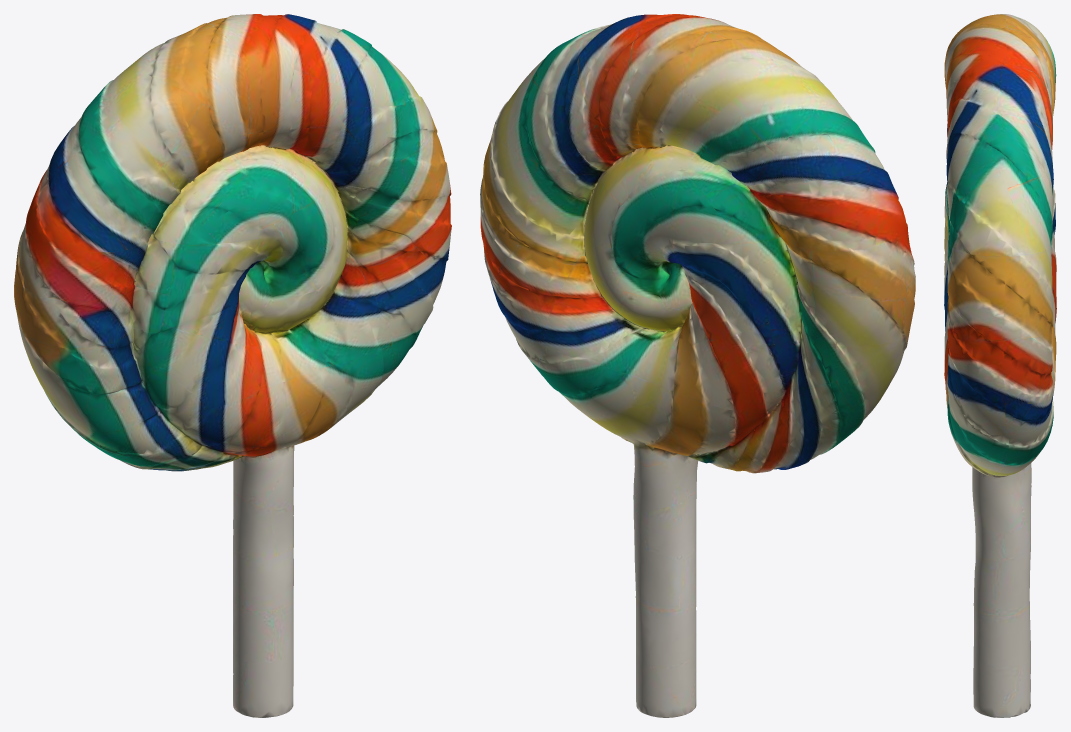
The picture shows the model from 3 angles, left to right: view 1: azimuth 30°, elevation 25°; view 2: azimuth 150°, elevation 25°; view 3: azimuth 270°, elevation 25°; orthographic projection. The views are drawn at different scales.
Visible parts, largest first — view 1: mesh_node; view 2: mesh_node; view 3: mesh_node.
Boxes of the visible parts, x1,y1,x2,y2 form: mesh_node: [14, 14, 451, 717]; mesh_node: [480, 14, 915, 717]; mesh_node: [944, 14, 1056, 717].
Bounding box in the file's own units: 1.22 × 1.9 × 0.2953.
Materials: 1 (1 with a texture image).
